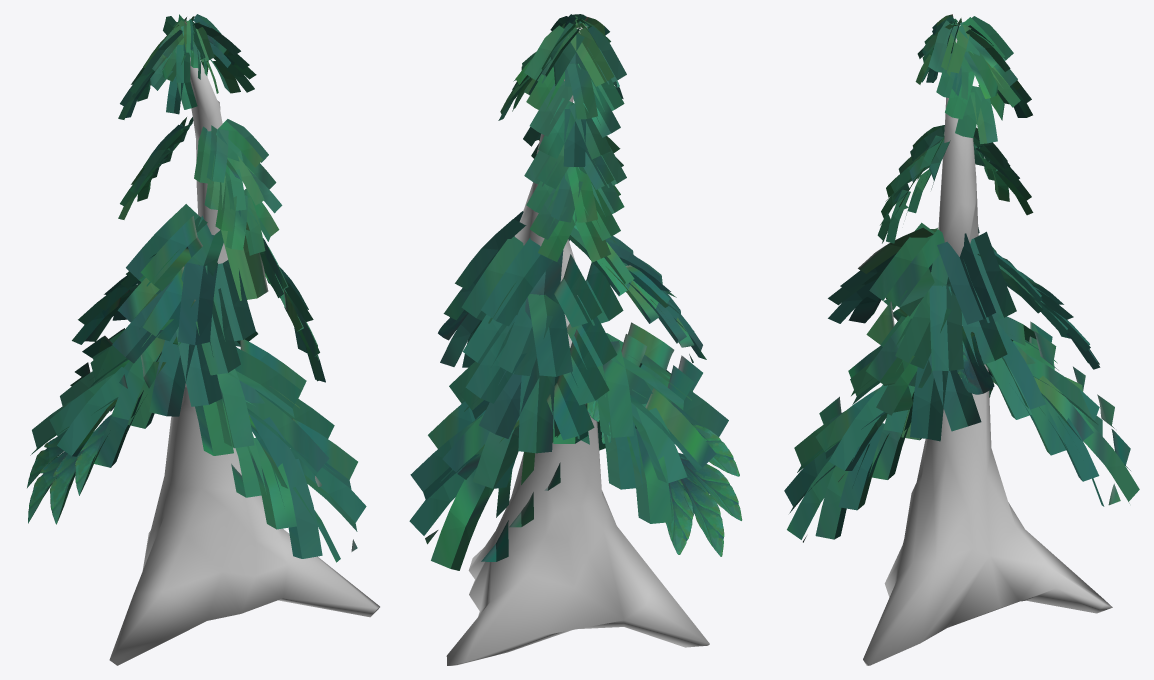
File: StylisedTree.fbx
3 renders of one model, left to right at view 1: azimuth 30°, elevation 25°; view 2: azimuth 150°, elevation 25°; view 3: azimuth 270°, elevation 25°, orthographic. The views are drawn at different scales.
Visible parts, largest first — view 1: liscie, TreeLP1; view 2: liscie, TreeLP1; view 3: liscie, TreeLP1.
Part boxes in pixels (x1,y1,x2,y2): liscie: (27, 14, 366, 562); TreeLP1: (109, 57, 379, 665); liscie: (409, 14, 742, 570); TreeLP1: (446, 26, 709, 665); liscie: (784, 14, 1139, 542); TreeLP1: (863, 25, 1112, 665).
Bounding box in the file's own units: 93.99 × 178 × 96.85.
